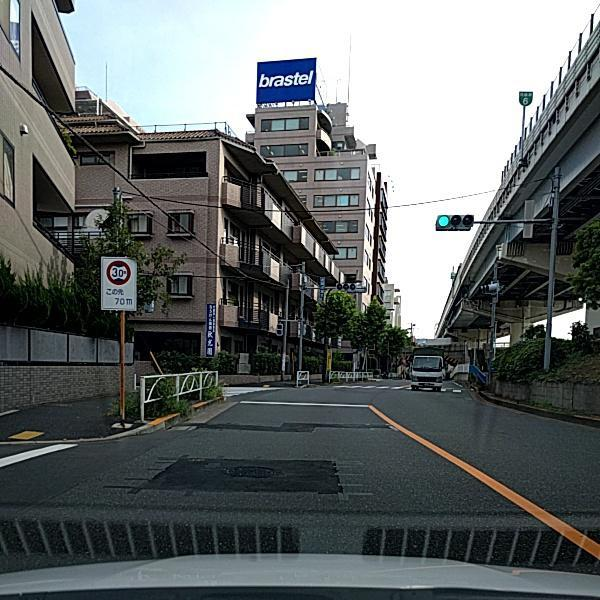D50: (219, 459, 274, 476)
